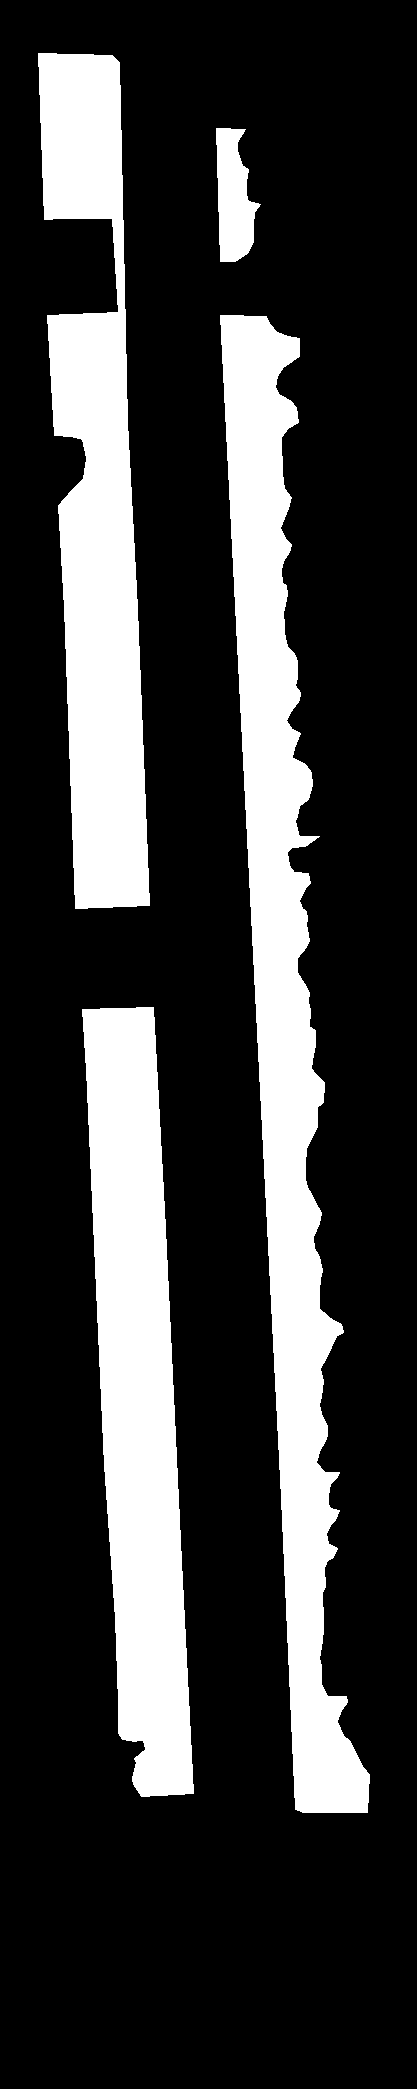parkingspot: (103, 16, 382, 2089), (220, 314, 369, 1812), (39, 53, 149, 909), (83, 1007, 193, 1796), (216, 128, 260, 261)
